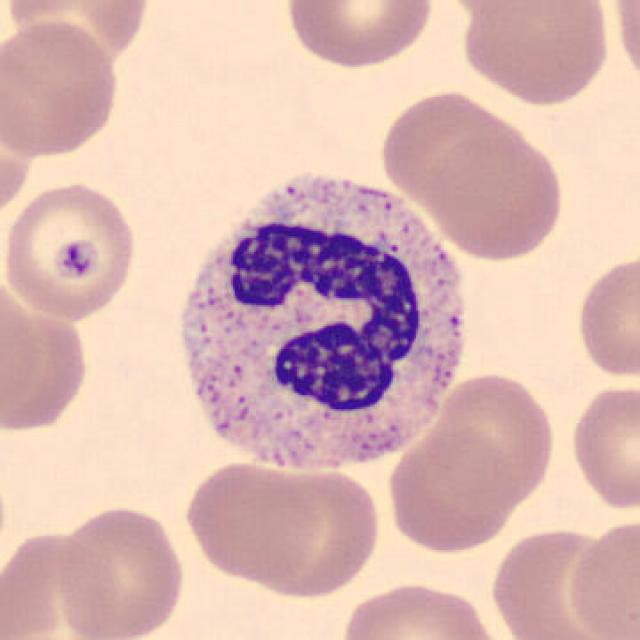Monocyte: (160, 161, 478, 490)
RBC: (0, 176, 142, 323), (425, 125, 569, 265), (244, 464, 386, 601), (382, 422, 523, 556), (52, 502, 188, 640), (375, 85, 525, 206), (181, 459, 322, 587), (0, 16, 123, 162), (485, 520, 633, 640), (434, 368, 558, 509), (457, 0, 613, 108), (0, 522, 124, 640), (0, 275, 76, 439), (280, 0, 437, 72), (336, 576, 510, 640), (5, 0, 155, 71), (563, 513, 640, 638), (566, 381, 638, 513), (572, 250, 638, 382), (428, 0, 576, 21), (608, 0, 640, 93)
